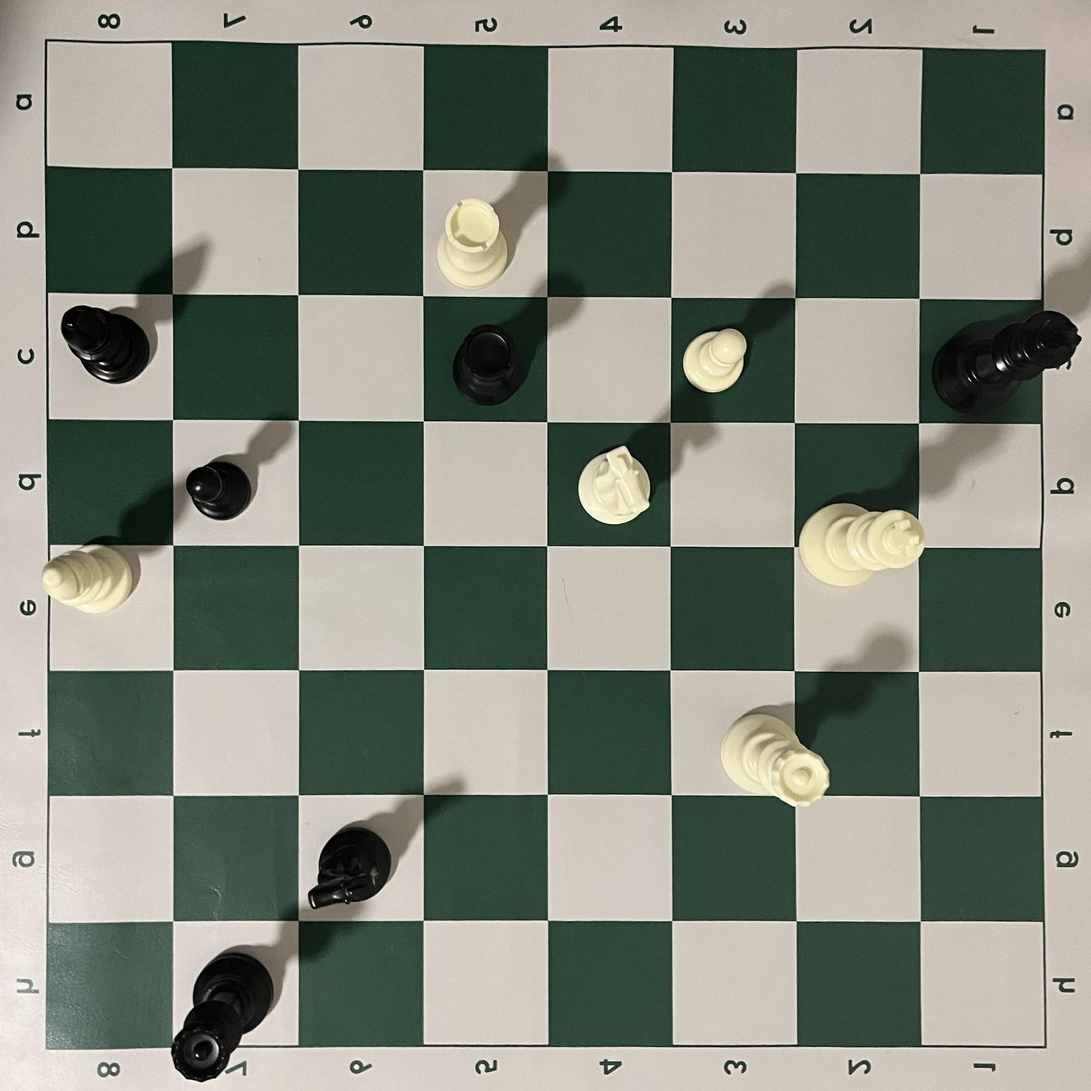black_bishop: (60, 305, 150, 385)
black_king: (931, 308, 1082, 417)
black_knight: (307, 827, 392, 912)
black_pawn: (185, 462, 252, 521)
black_queen: (170, 952, 276, 1083)
black_rook: (452, 324, 529, 407)
white_bishop: (40, 542, 133, 616)
white_king: (798, 502, 925, 589)
white_knight: (577, 444, 652, 525)
white_pawn: (681, 328, 747, 394)
white_queen: (720, 713, 832, 808)
white_rook: (436, 197, 511, 291)
